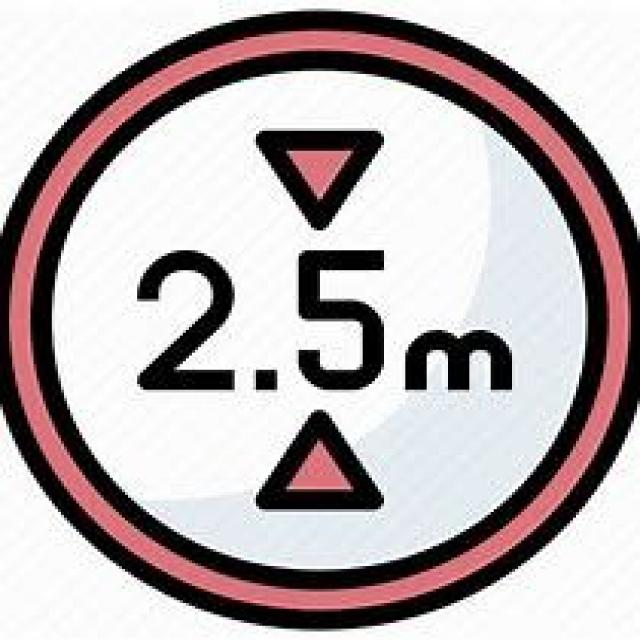HEIGHT_LIMIT: (0, 8, 637, 626)
